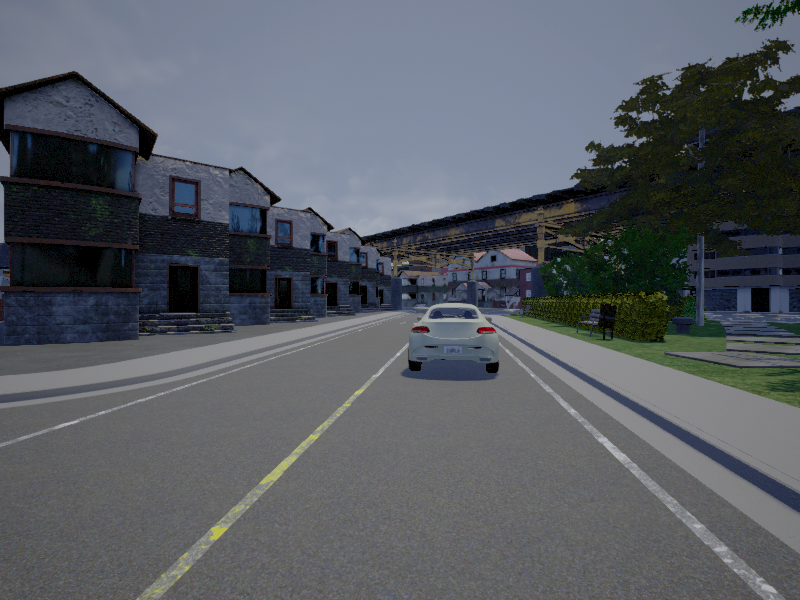Benign: (410, 303, 501, 374)
